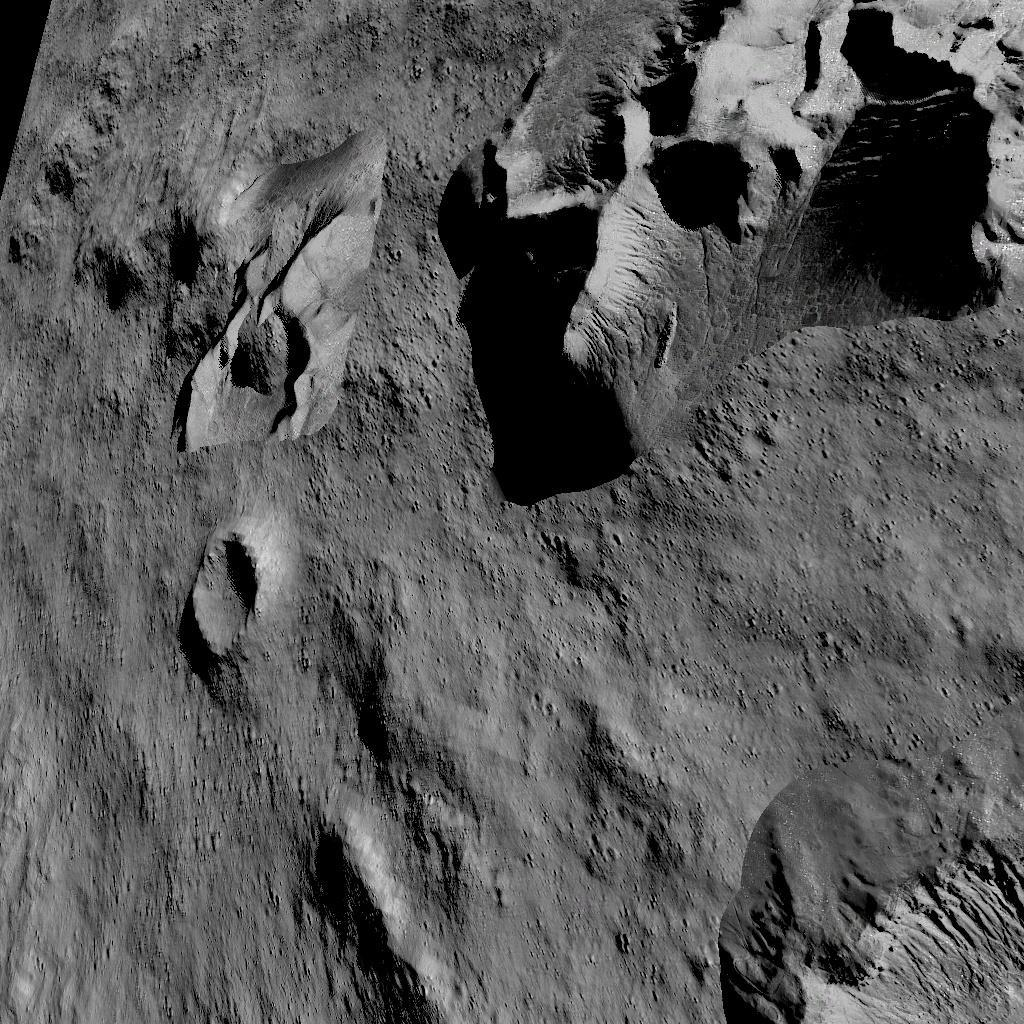Boulders: (435, 0, 1024, 495), (111, 116, 394, 450)
Crater: (731, 766, 1024, 1024), (177, 520, 277, 673)
Plan surface: (435, 508, 1024, 745), (0, 680, 275, 1024), (461, 756, 709, 1024), (0, 460, 163, 668), (115, 0, 419, 104)
